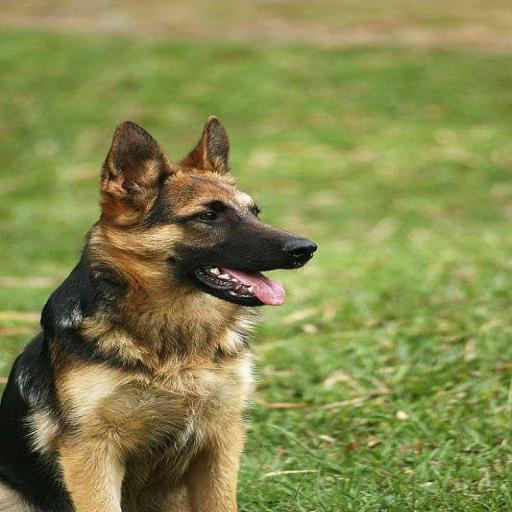dog_face: (105, 126, 326, 325)
